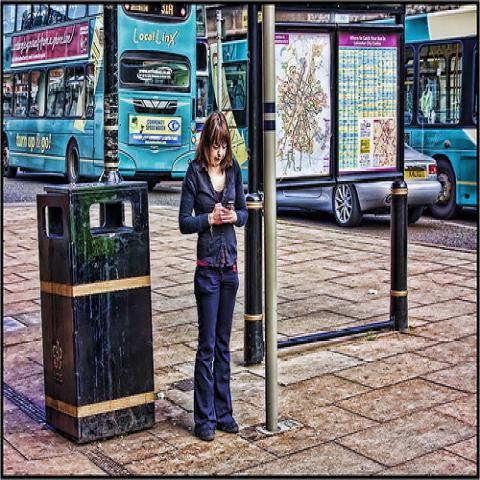bus: (2, 8, 198, 180), (399, 4, 479, 217)
car: (278, 138, 446, 227)
